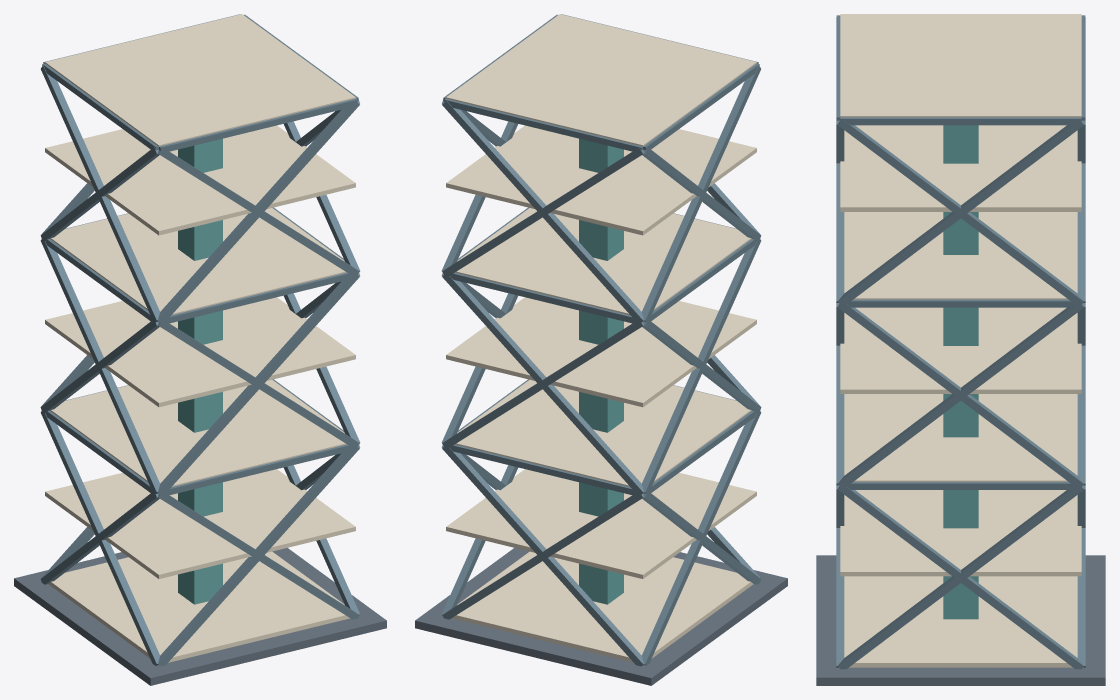
The model's file is sample.glb.
3 views of the same model, side by side, from view 1: azimuth 30°, elevation 25°; view 2: azimuth 150°, elevation 25°; view 3: azimuth 270°, elevation 25° (orthographic). The views are drawn at different scales.
Visible parts, largest first — view 1: floor_plate.006, floor_plate.003, floor_plate.005, floor_plate.001, floor_plate, floor_plate.004, floor_plate.002, DISPLAY_plinth, core_marker, diagonal_rising.008, diagonal_rising.004, diagonal_rising (+18 smaller); view 2: floor_plate.006, floor_plate.003, floor_plate.005, floor_plate.001, floor_plate, floor_plate.004, floor_plate.002, DISPLAY_plinth, core_marker, diagonal_falling.010, diagonal_falling.006, diagonal_falling.002 (+18 smaller); view 3: floor_plate.006, floor_plate, floor_plate.002, floor_plate.005, floor_plate.001, floor_plate.004, floor_plate.003, DISPLAY_plinth, core_marker, diagonal_rising.005, diagonal_rising.009, diagonal_rising.001 (+14 smaller).
Part boxes in pixels (box(x1,y1,x2,y2)): floor_plate.006: box(45, 14, 355, 146); floor_plate.003: box(45, 297, 355, 407); floor_plate.005: box(45, 125, 355, 235); floor_plate.001: box(45, 469, 355, 578); floor_plate: box(48, 551, 349, 662); floor_plate.004: box(50, 208, 346, 314); floor_plate.002: box(50, 380, 346, 486); DISPLAY_plinth: box(14, 548, 386, 685); core_marker: box(178, 138, 222, 604); diagonal_rising.008: box(158, 101, 359, 322); diagonal_rising.004: box(158, 273, 359, 494); diagonal_rising: box(158, 444, 359, 666); floor_plate.006: box(446, 14, 756, 146); floor_plate.003: box(446, 297, 756, 407); floor_plate.005: box(446, 125, 756, 235); floor_plate.001: box(446, 469, 756, 578); floor_plate: box(452, 551, 753, 662); floor_plate.004: box(455, 208, 751, 314); floor_plate.002: box(455, 380, 751, 486); DISPLAY_plinth: box(415, 548, 787, 685); core_marker: box(579, 138, 623, 604); diagonal_falling.010: box(442, 101, 643, 322); diagonal_falling.006: box(442, 273, 643, 494); diagonal_falling.002: box(442, 444, 643, 666); floor_plate.006: box(840, 14, 1081, 117); floor_plate: box(844, 576, 1077, 667); floor_plate.002: box(844, 394, 1077, 481); floor_plate.005: box(840, 125, 1081, 211); floor_plate.001: box(840, 490, 1081, 576); floor_plate.004: box(844, 212, 1077, 299); floor_plate.003: box(840, 307, 1081, 393); DISPLAY_plinth: box(816, 555, 1105, 685); core_marker: box(943, 125, 978, 619); diagonal_rising.005: box(837, 302, 1084, 489); diagonal_rising.009: box(837, 119, 1084, 306); diagonal_rising.001: box(837, 484, 1084, 669).
Bounding box in the file's own units: 5.76 × 12.28 × 5.76.
